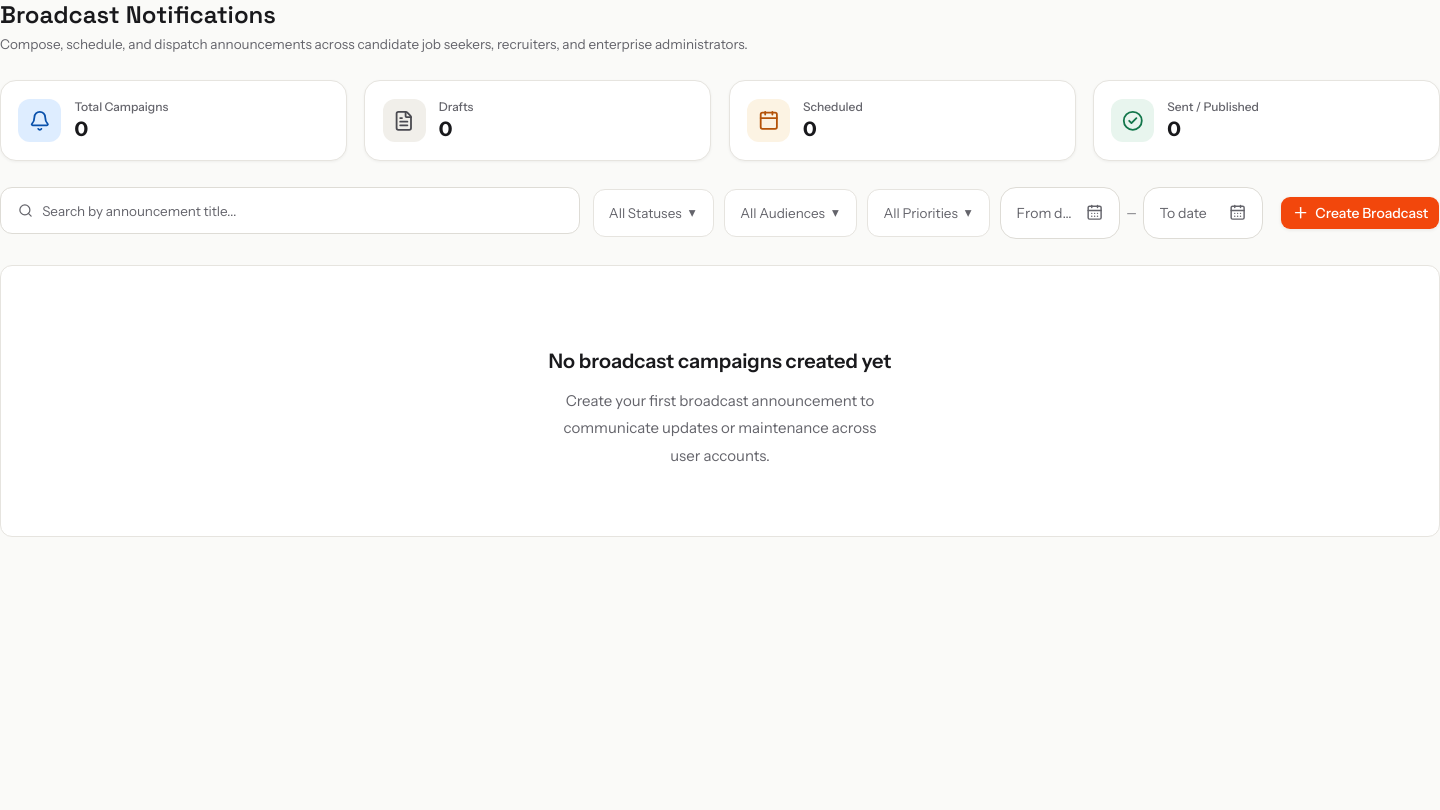
Test: Broadcast Notifications Feature Tests (UC 01 - UC 07) › opens Create Broadcast dialog when clicking Create Broadcast button
The width and height of the screenshot is (1440, 810).
Click the button "Create Broadcast": [1360, 213] box 1280,196 -> 1439,230
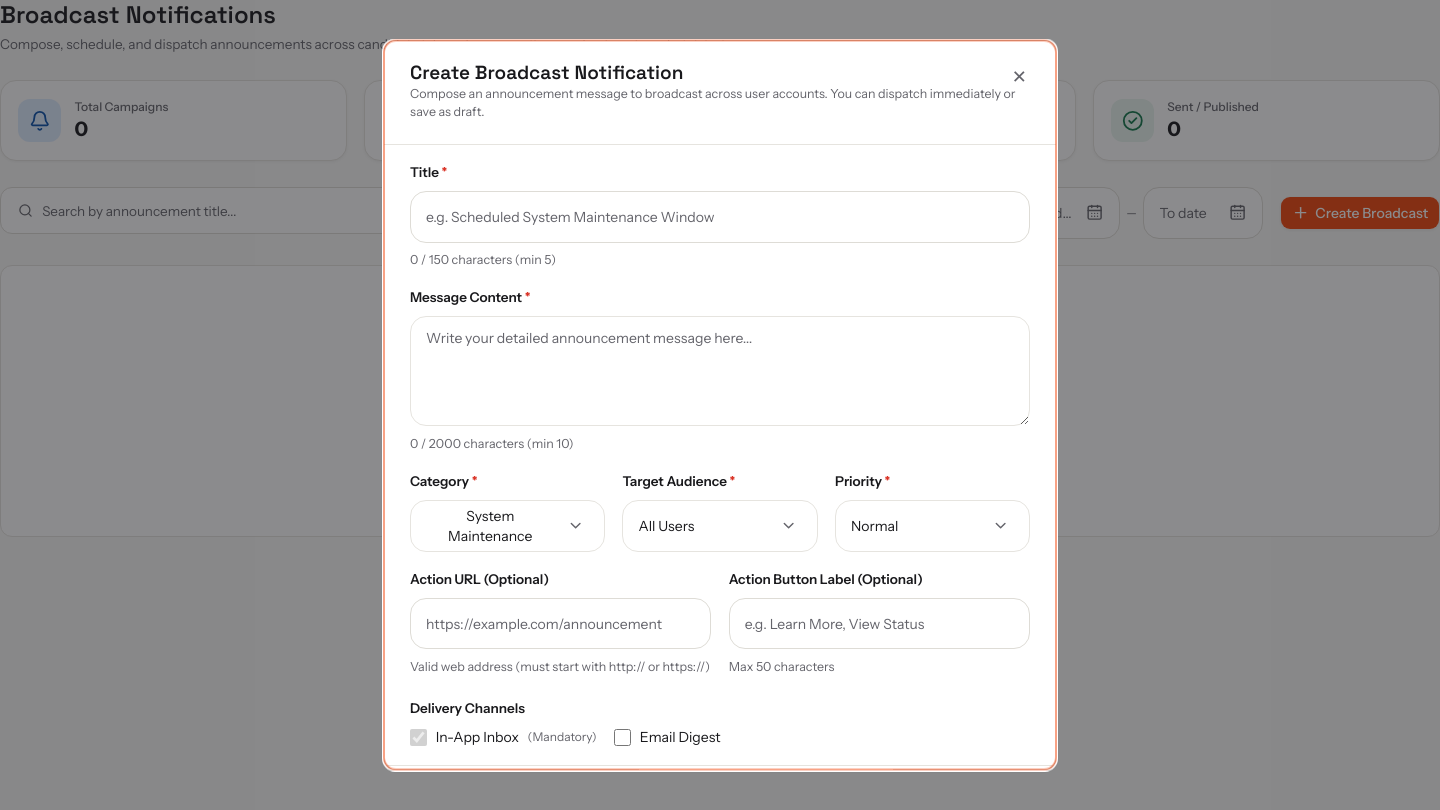
Expected: the dialog is shown, 384,40 -> 1056,770
Expected: the text "Compose an announcement message to broadcast across user accounts. You can dispatch immediately or save as draft." is shown, 410,85 -> 1016,119
